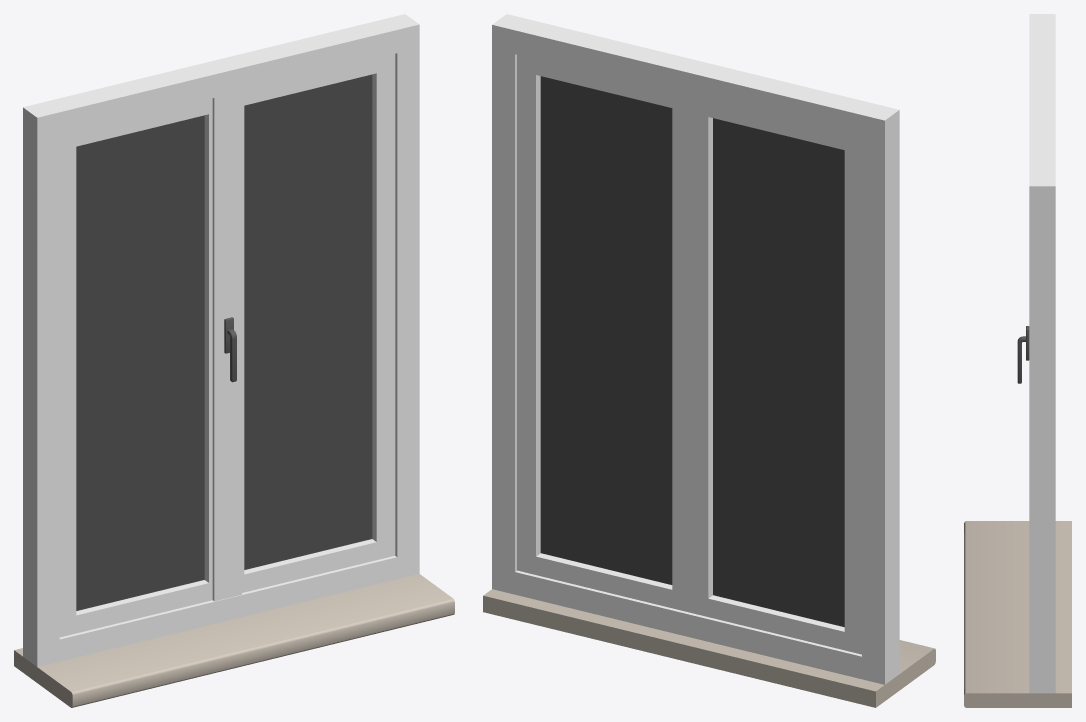
Rendered from window.fbx.
3 views of the same model, side by side, from view 1: azimuth 30°, elevation 25°; view 2: azimuth 150°, elevation 25°; view 3: azimuth 270°, elevation 25° (orthographic). The views are drawn at different scales.
Parts seen in each view (by area): view 1: glass, window, sash_2, sill, sash_1; view 2: glass, window, sash_2, sash_1, sill; view 3: window, sill, handle.
Boxes of the visible parts, bbox=[...] form: glass: bbox=[76, 74, 372, 610]; window: bbox=[23, 14, 419, 666]; sash_2: bbox=[212, 54, 395, 601]; sill: bbox=[14, 574, 454, 707]; sash_1: bbox=[59, 98, 212, 637]; glass: bbox=[540, 76, 844, 626]; window: bbox=[492, 14, 899, 684]; sash_2: bbox=[517, 55, 690, 612]; sash_1: bbox=[690, 97, 861, 654]; sill: bbox=[483, 589, 935, 707]; window: bbox=[1029, 14, 1055, 693]; sill: bbox=[964, 521, 1071, 707]; handle: bbox=[1017, 326, 1029, 383].
Bounding box in the file's own units: 9.97 × 14.08 × 2.64.
